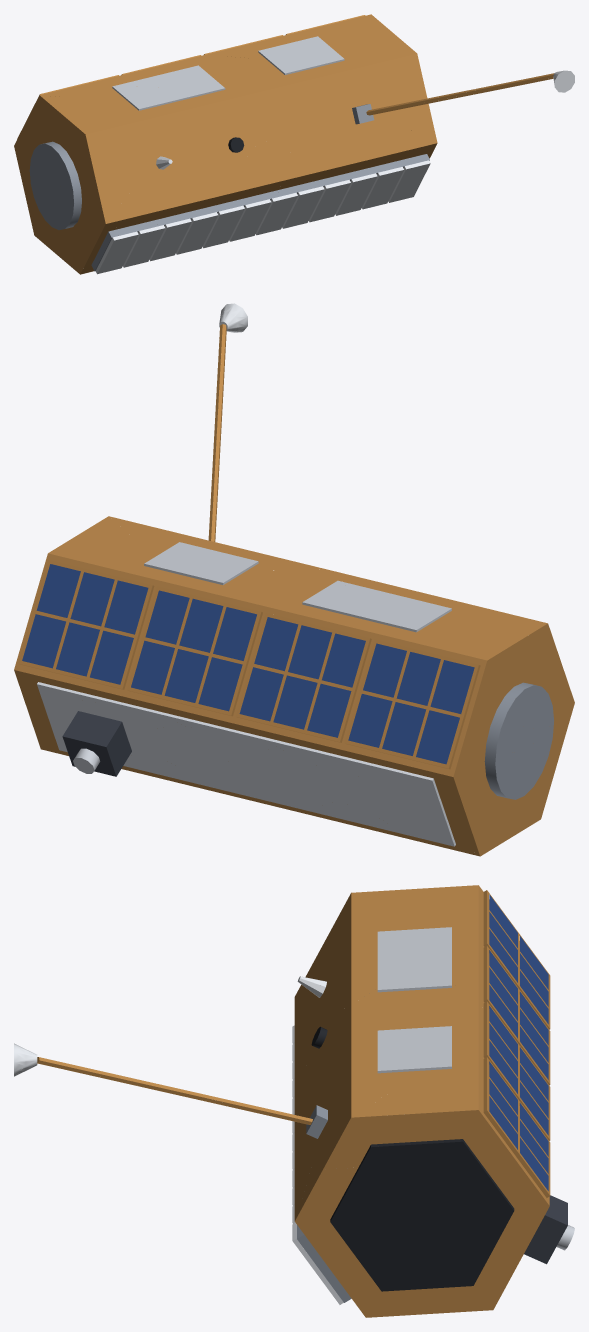
File: terrasar-x.glb
3 renders of one model, top to bottom at view 1: azimuth 30°, elevation 25°; view 2: azimuth 150°, elevation 25°; view 3: azimuth 270°, elevation 25°, orthographic. The views are drawn at different scales.
Visible parts, largest first — view 1: foil, body; view 2: body, foil, solar-panel; view 3: foil, body, solar-panel.
Part boxes in pixels (x1,y1,x2,y2): foil: (14,14,437,274); body: (17,15,574,274); body: (18,303,553,846); foil: (14,516,574,856); solar-panel: (22,564,474,764); foil: (294,885,549,1317); body: (14,890,574,1304); solar-panel: (489,894,548,1190).
Size of the model in its own units: 5.67 by 3.02 by 5.27.
